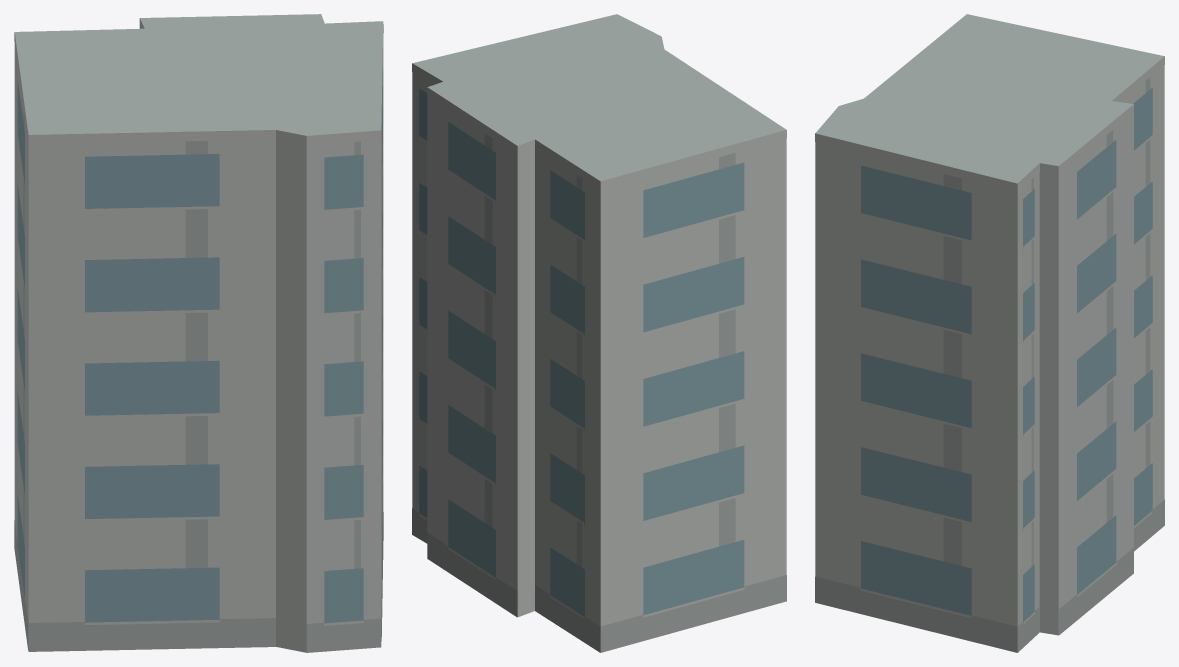
Rendered from survey-upis-32729604.glb.
3 views of the same model, side by side, from view 1: azimuth 30°, elevation 25°; view 2: azimuth 150°, elevation 25°; view 3: azimuth 270°, elevation 25° (orthographic). The views are drawn at different scales.
Parts seen in each view (by area): view 1: survey-upis-32729604.tmp; view 2: survey-upis-32729604.tmp; view 3: survey-upis-32729604.tmp.
Part boxes in pixels (box(x1,y1,x2,y2)): survey-upis-32729604.tmp: box(14, 14, 383, 652); survey-upis-32729604.tmp: box(412, 14, 786, 652); survey-upis-32729604.tmp: box(815, 14, 1164, 652).
Bounding box in the file's own units: 10.23 × 13.2 × 8.92.
